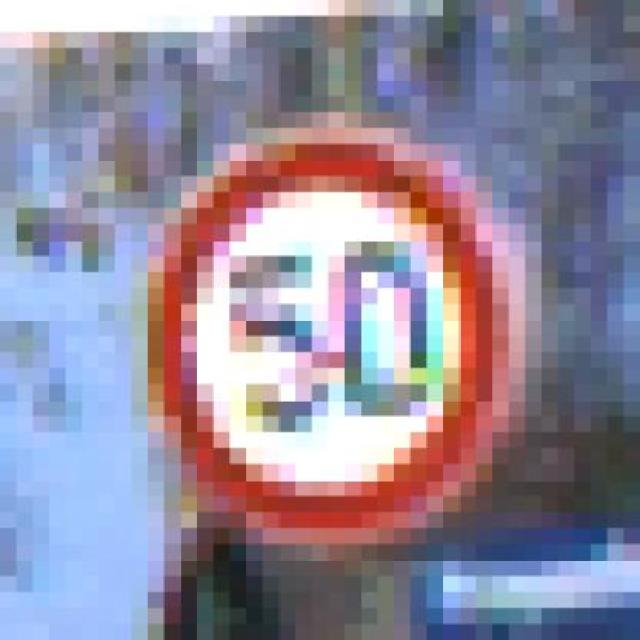50 mph speed limit: (98, 128, 525, 560)
